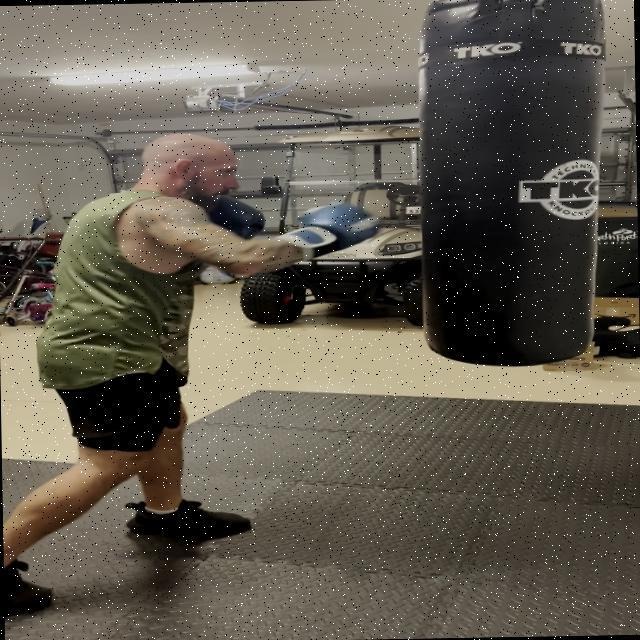bag: (418, 0, 617, 375)
cross: (23, 108, 459, 292)
